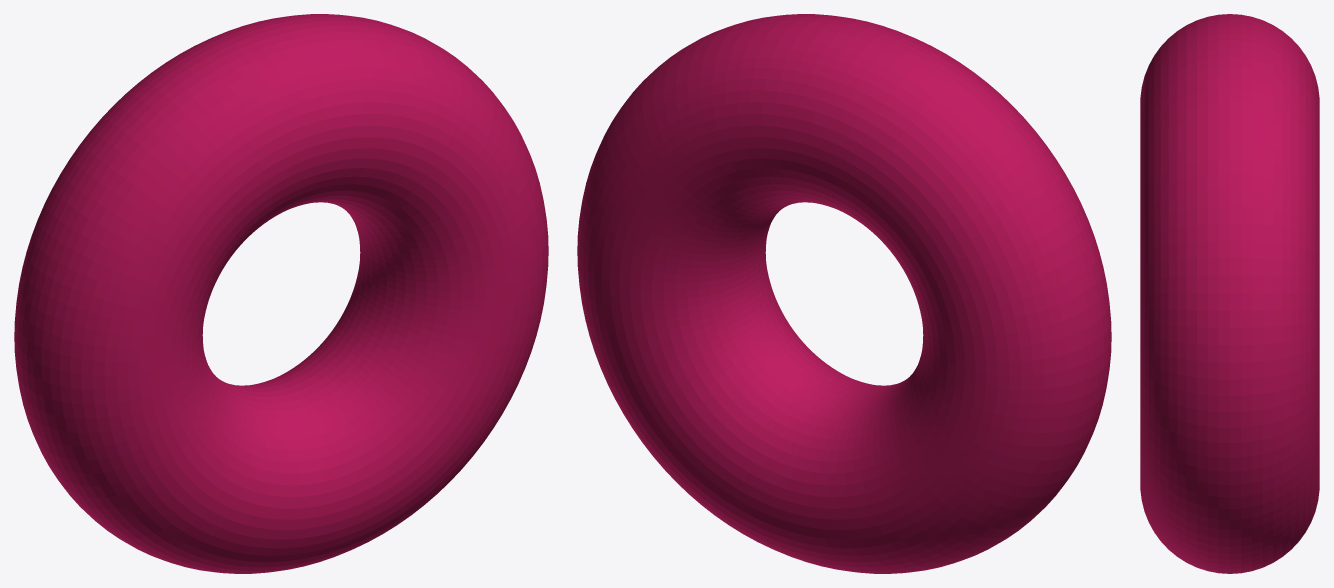
3 views of the same model, side by side, from view 1: azimuth 30°, elevation 25°; view 2: azimuth 150°, elevation 25°; view 3: azimuth 270°, elevation 25° (orthographic). The views are drawn at different scales.
Parts seen in each view (by area): view 1: world; view 2: world; view 3: world.
Boxes of the visible parts, x1=… form: world: x1=14, y1=14, x2=548, y2=573; world: x1=577, y1=14, x2=1111, y2=573; world: x1=1140, y1=14, x2=1319, y2=573.
Size of the model in its own units: 24.53 by 24.53 by 7.85.
